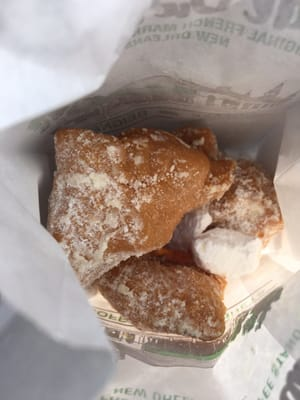soup: (47, 125, 286, 344)
